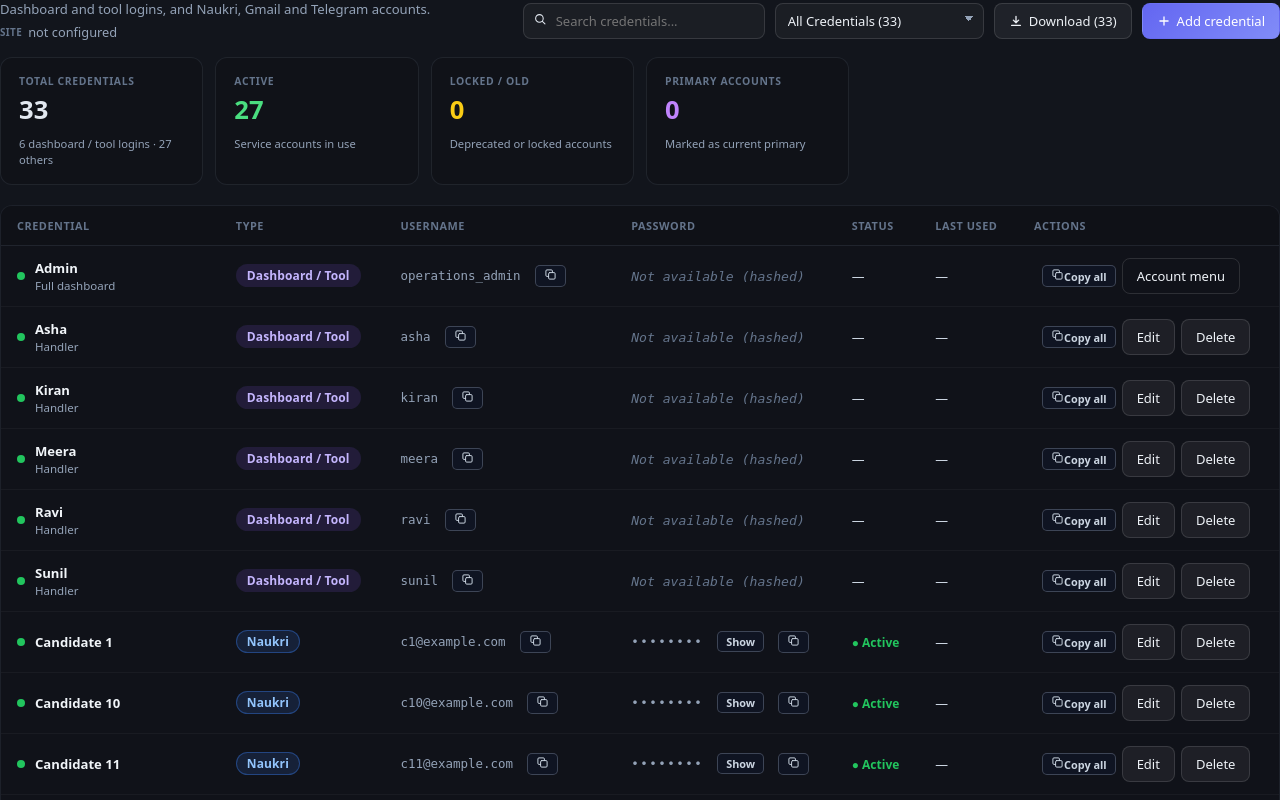
the dialog says what the file will hold › only the login credentials, under that type
This screenshot has width=1280, height=800.
Select "Dashboard / Tool Logins (6)" in the dropdown named "Credential type". click: (879, 20)
box: top-left (775, 2), bottom-right (984, 38)
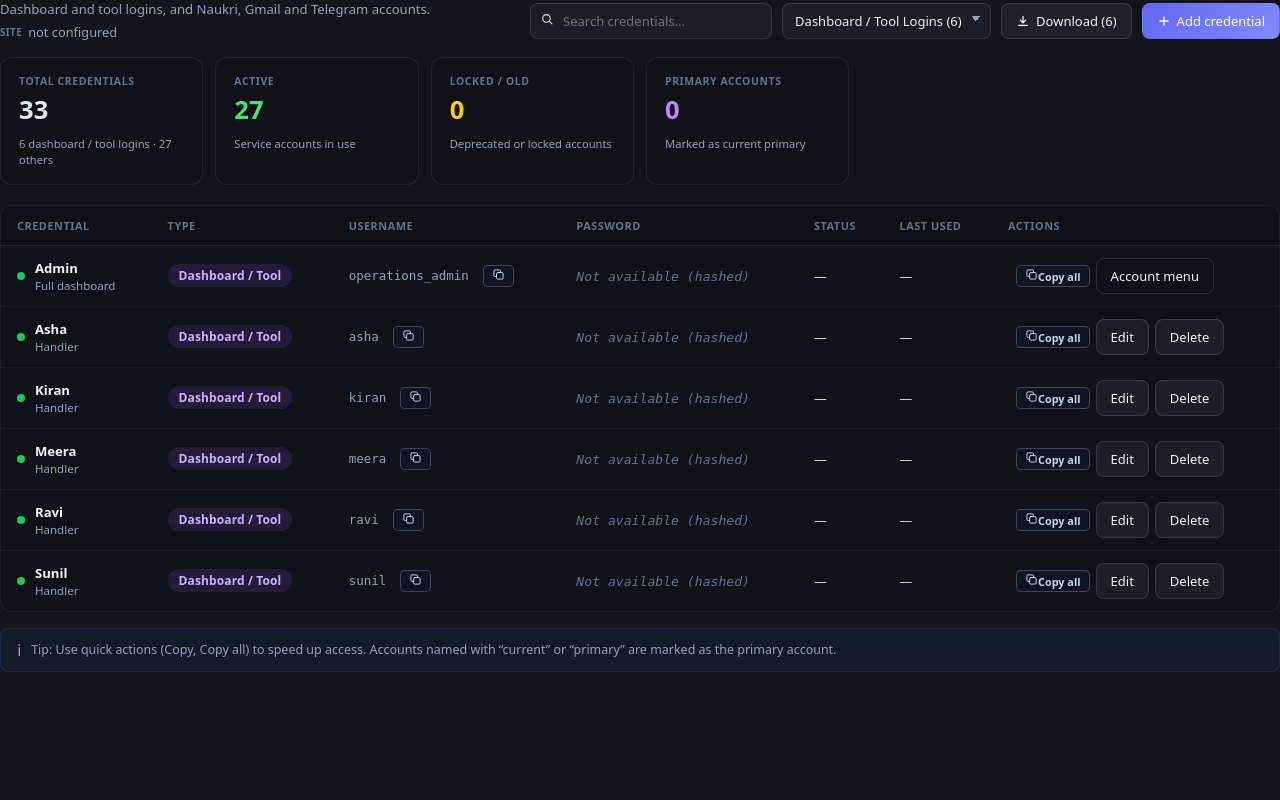
Click the button "Download (6)". click: (1066, 20)
box: top-left (1001, 2), bottom-right (1132, 38)
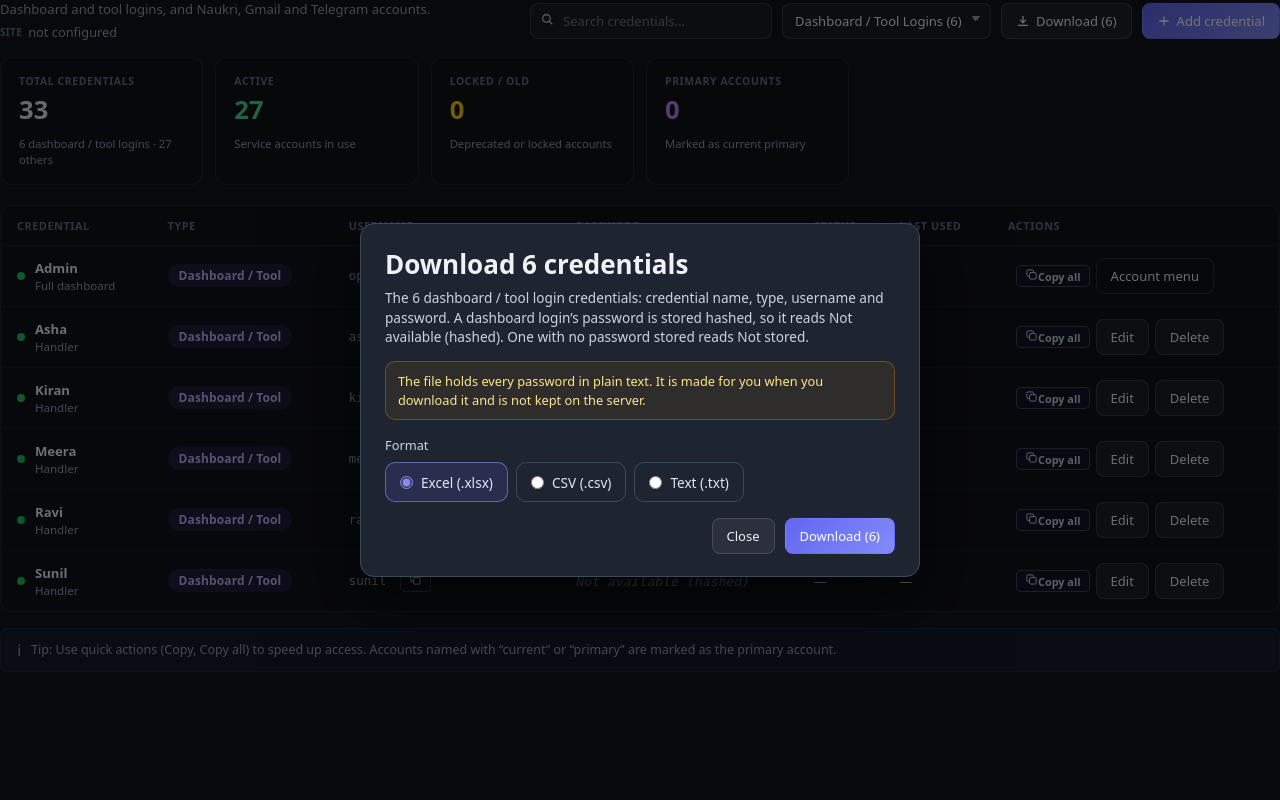
Check: the dialog shows "The 6 dashboard / tool login credentials: credential name, type, username and password.", box top-left (360, 223), bottom-right (920, 577)
